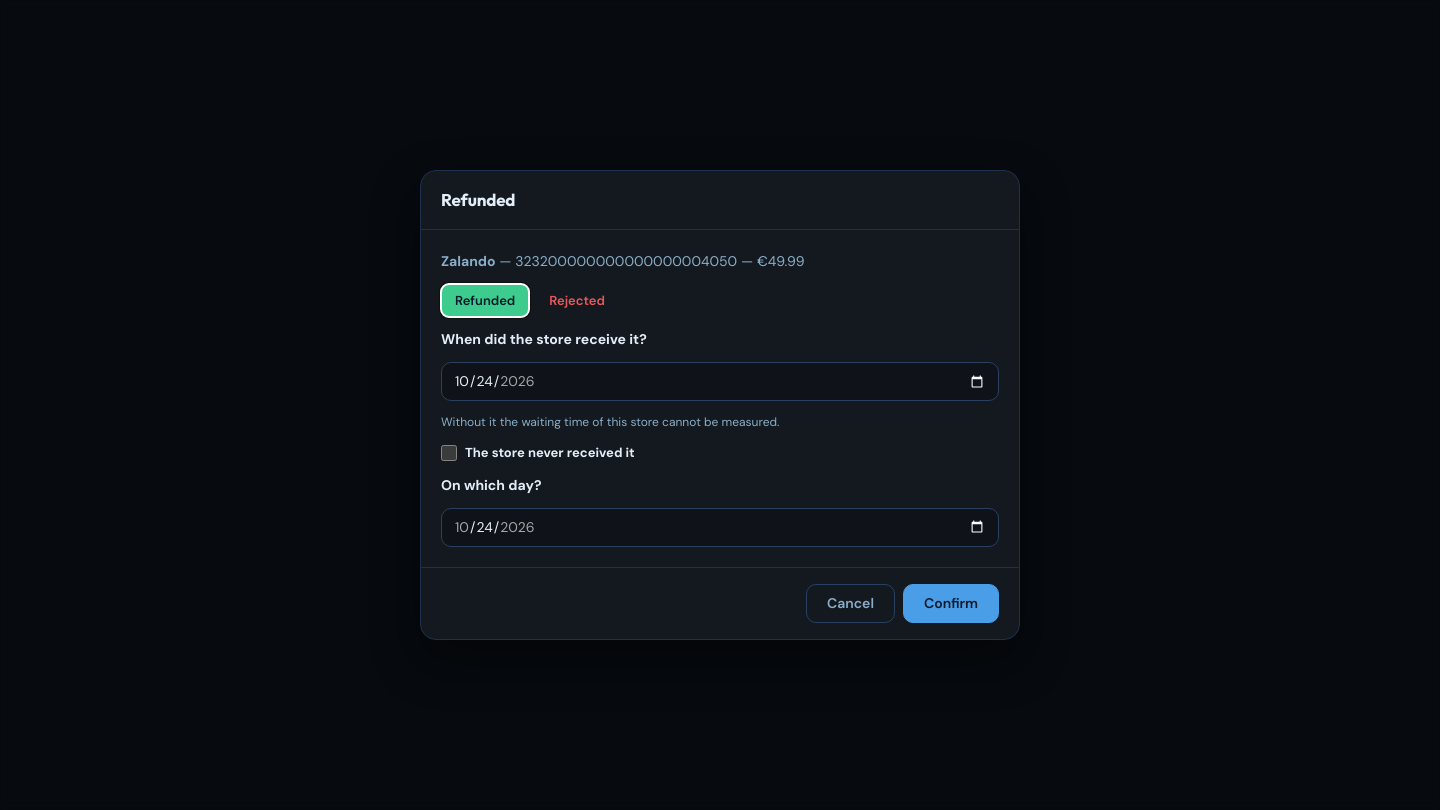
Test: a decision that skips the reception › refuses a reception earlier than the drop-off
Clear the date field labelled "When did the store receive it?" at x=720, y=382, box [441,362,999,401]
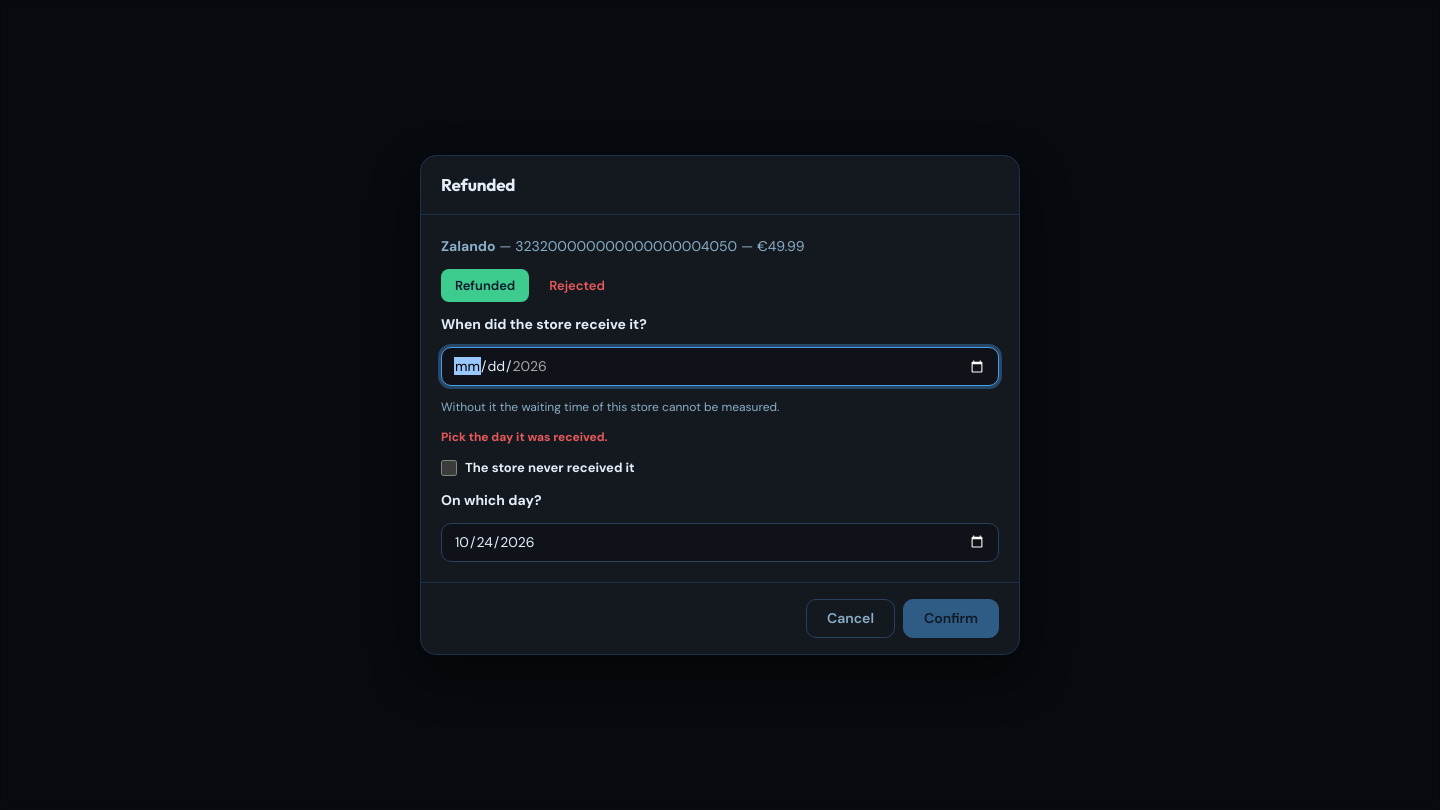
Type "2026-06-01" into the date field labelled "When did the store receive it?".
click(720, 367); type("2026-06-01")  # box [441,347,999,386]
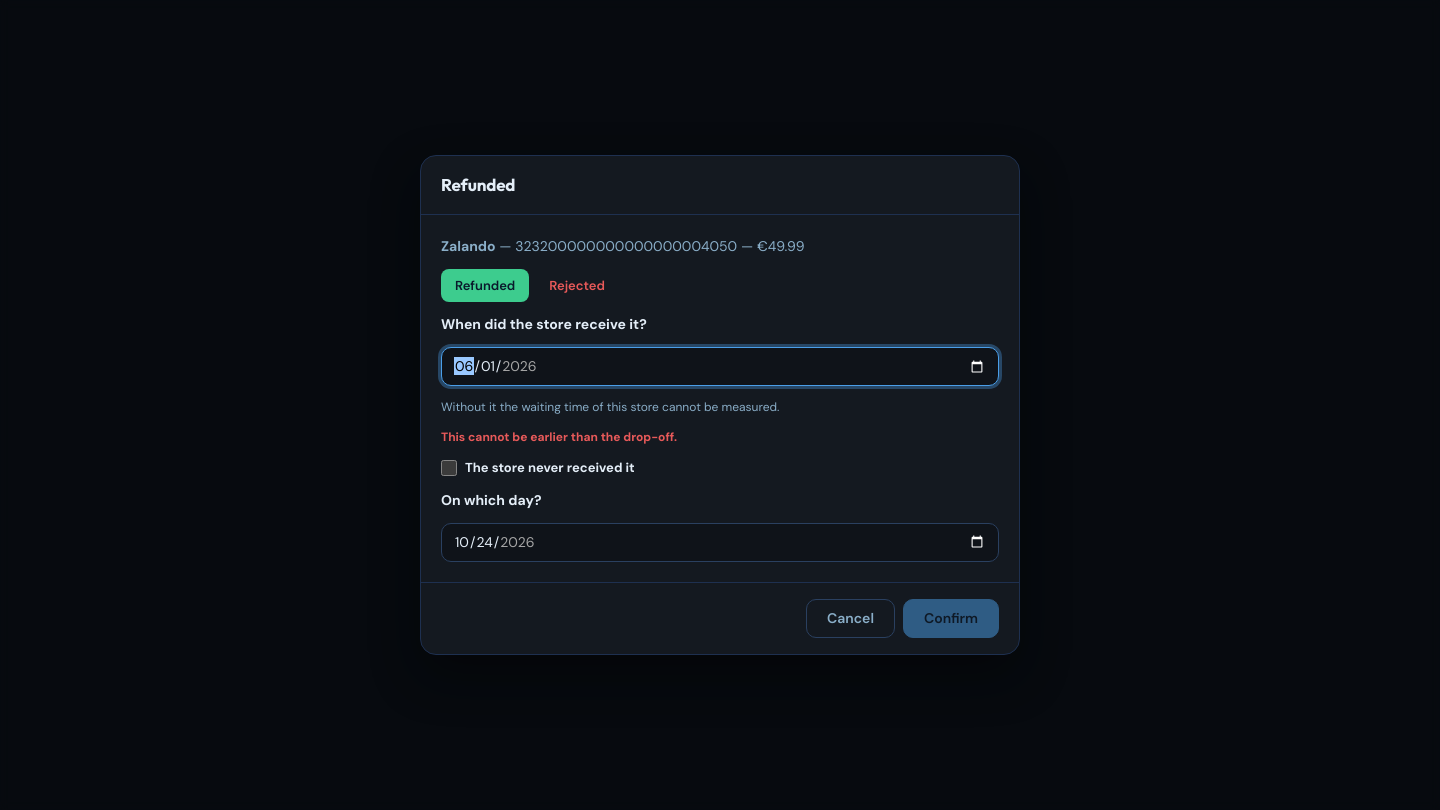
Check: the button "Confirm" is disabled, box [903,599,999,638]
Check: the text "This cannot be earlier than the drop-off." is shown, box [441,429,677,445]
